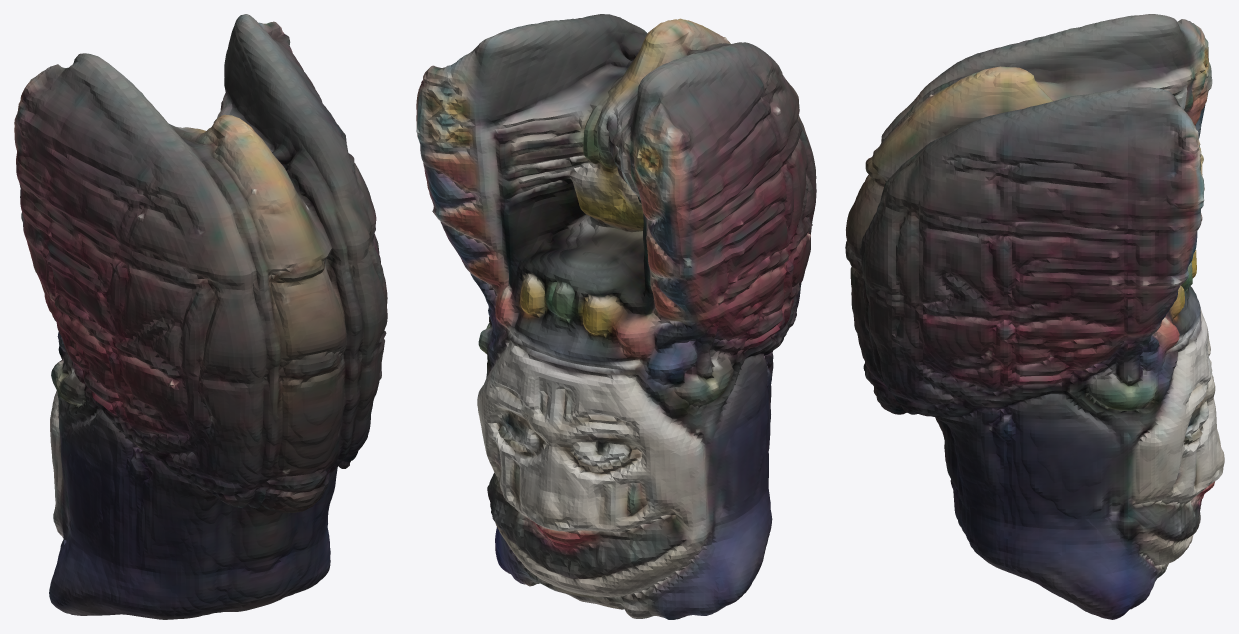
Rendered from Guelede.glb.
3 views of the same model, side by side, from view 1: azimuth 30°, elevation 25°; view 2: azimuth 150°, elevation 25°; view 3: azimuth 270°, elevation 25° (orthographic). The views are drawn at different scales.
Parts seen in each view (by area): view 1: world; view 2: world; view 3: world.
Part boxes in pixels (box(x1,y1,x2,y2)): world: box(14, 14, 387, 619); world: box(416, 14, 816, 619); world: box(845, 14, 1224, 619).
Size of the model in its own units: 0.5545 by 1.03 by 0.6698.
